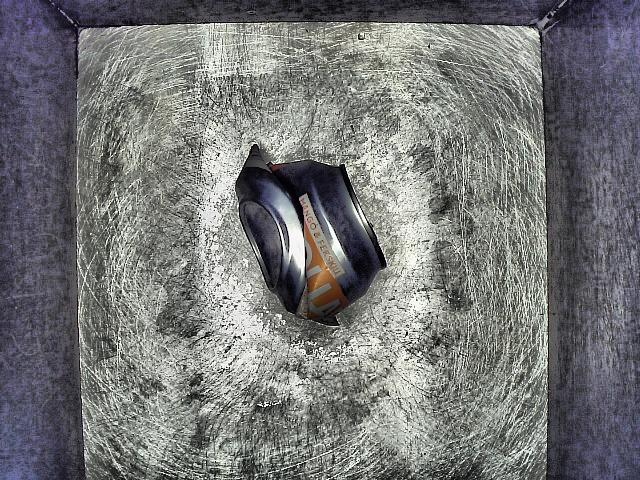Bottles: (221, 133, 404, 349)
